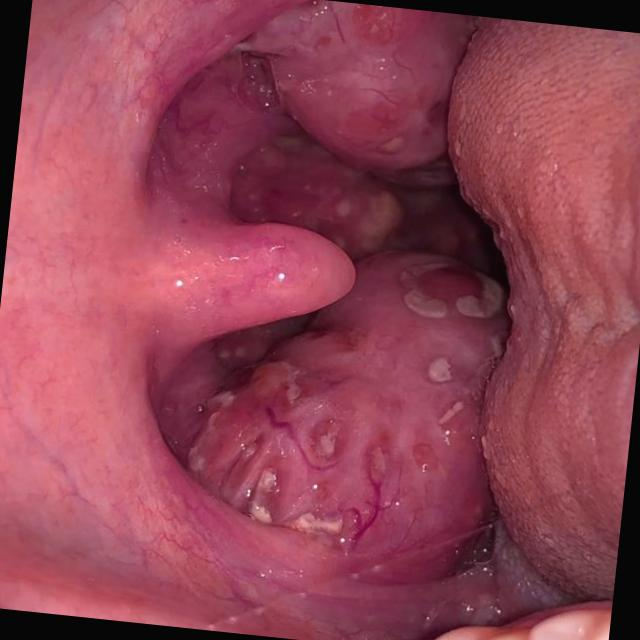pharyngitis: (150, 232, 543, 592), (249, 0, 480, 225)
